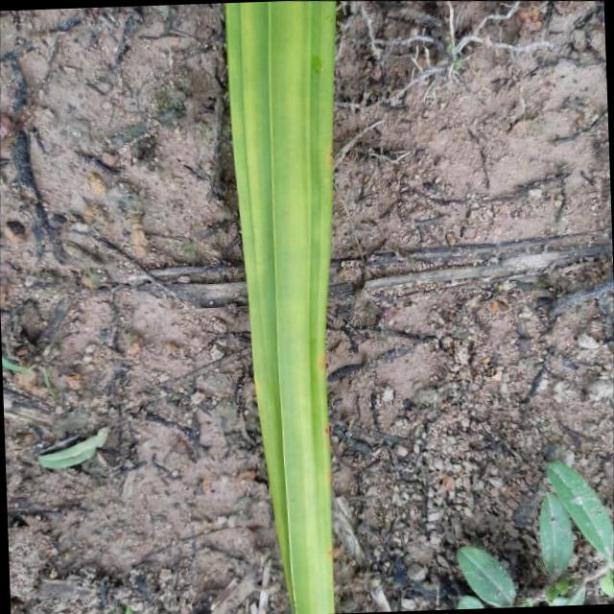nitrogen: (222, 5, 339, 614)
